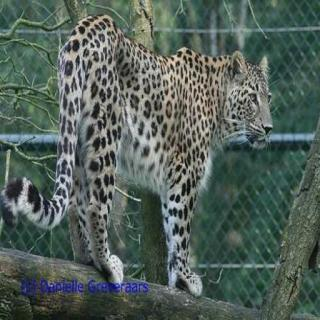Leopard: (47, 12, 296, 285)
